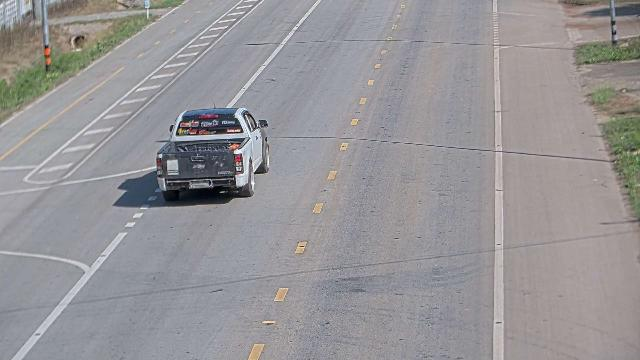pickup-truck: (155, 103, 270, 201)
